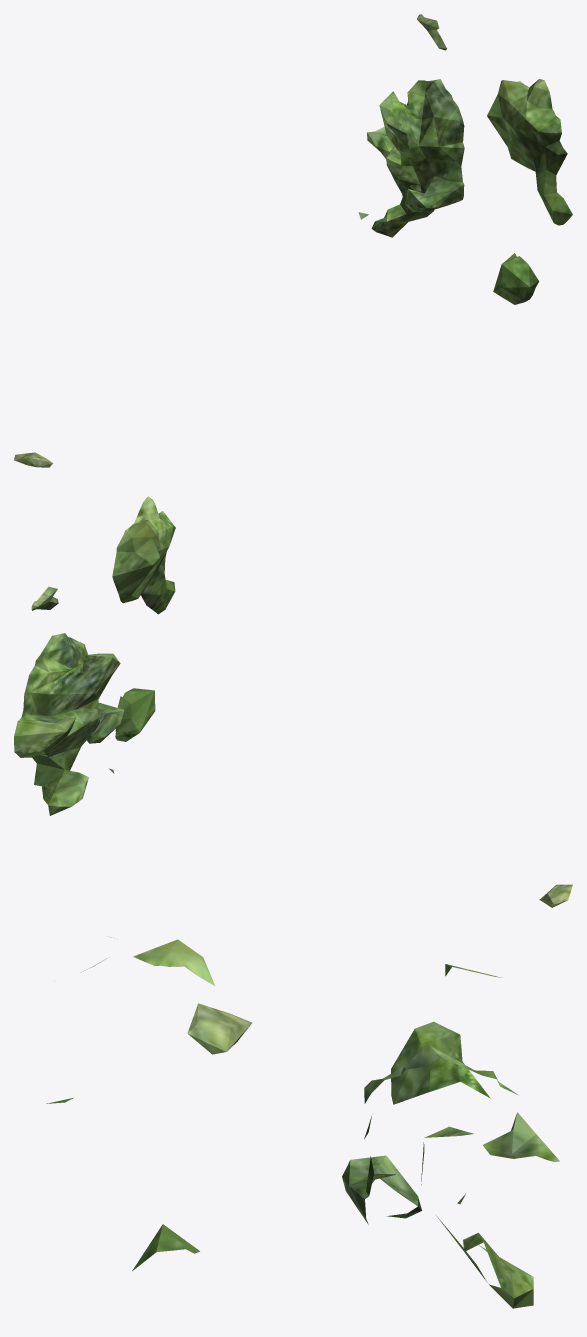
3 views of the same model, one above another, from view 1: azimuth 30°, elevation 25°; view 2: azimuth 150°, elevation 25°; view 3: azimuth 270°, elevation 25° (orthographic). The views are drawn at different scales.
Bounding box in the file's own units: 25.25 × 14.65 × 15.39.
1 material, 1 textured.
